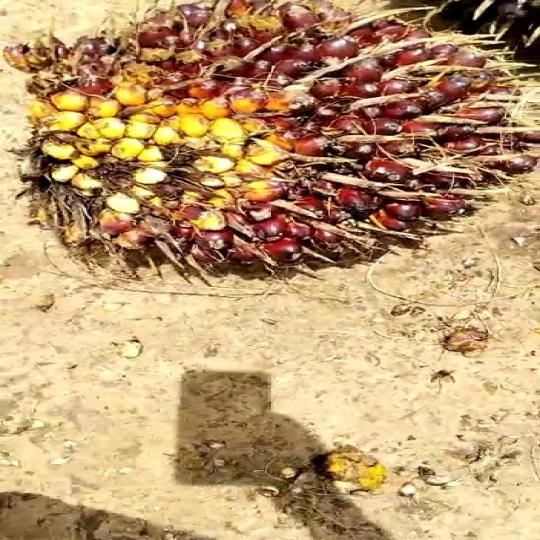kurang masak: (0, 0, 540, 289)
